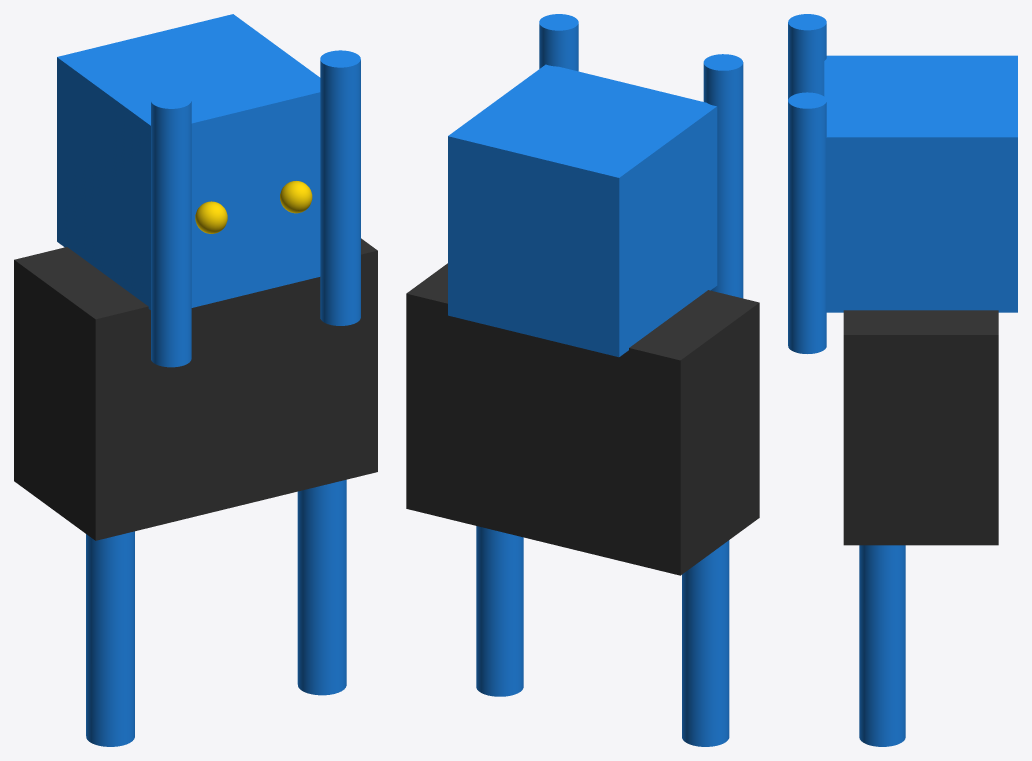
File: robot.glb
The picture shows the model from 3 angles, left to right: view 1: azimuth 30°, elevation 25°; view 2: azimuth 150°, elevation 25°; view 3: azimuth 270°, elevation 25°; orthographic projection. The views are drawn at different scales.
Visible parts, largest first — view 1: base, head, arm_l, arm_r, leg_r, leg_l, eye_l, eye_r; view 2: base, head, leg_l, leg_r, arm_l, arm_r; view 3: head, base, arm_r, leg_r, arm_l.
Part boxes in pixels (box(x1,y1,x2,y2)): base: box(14, 238, 377, 540); head: box(57, 14, 320, 309); arm_l: box(151, 91, 191, 367); arm_r: box(320, 50, 360, 325); leg_r: box(297, 479, 346, 695); leg_l: box(86, 531, 134, 746); eye_l: box(195, 201, 227, 233); eye_r: box(280, 181, 312, 213); base: box(406, 263, 759, 575); head: box(448, 64, 717, 357); leg_l: box(682, 540, 729, 746); leg_r: box(476, 526, 523, 696); arm_l: box(703, 54, 743, 298); arm_r: box(539, 14, 578, 71); head: box(824, 55, 1017, 312); base: box(843, 310, 998, 545); arm_r: box(788, 92, 826, 353); leg_r: box(859, 545, 905, 746); arm_l: box(788, 14, 826, 99).
Size of the model in its own units: 0.4 by 0.894 by 0.297.
